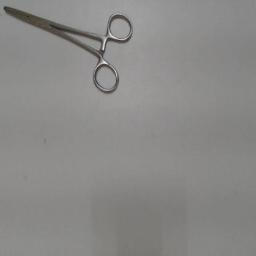Mayo Needle Holder: (1, 4, 137, 100)
